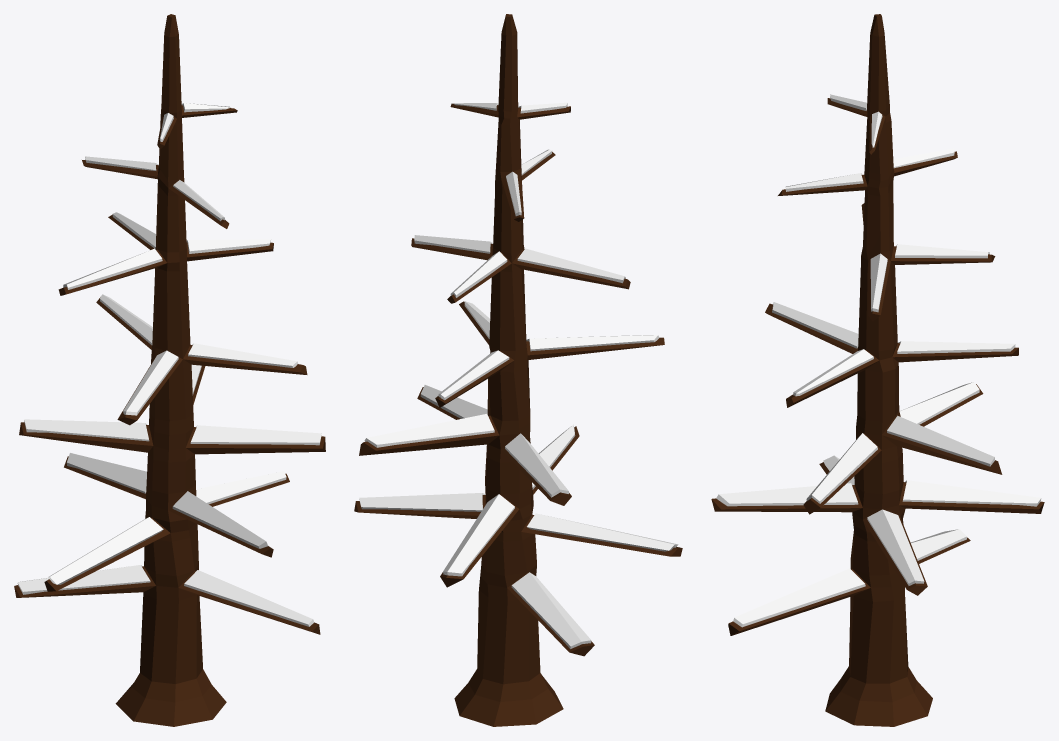
Rendered from tronco_nieve_1.fbx.
3 views of the same model, side by side, from view 1: azimuth 30°, elevation 25°; view 2: azimuth 150°, elevation 25°; view 3: azimuth 270°, elevation 25° (orthographic).
Parts seen in each view (by area): view 1: troncoNieve1:Mesh; view 2: troncoNieve1:Mesh; view 3: troncoNieve1:Mesh.
Boxes of the visible parts, x1=… form: troncoNieve1:Mesh: x1=14, y1=14, x2=325, y2=726; troncoNieve1:Mesh: x1=354, y1=14, x2=682, y2=726; troncoNieve1:Mesh: x1=711, y1=14, x2=1044, y2=726.
Size of the model in its own units: 62.11 by 145 by 63.36.
1 material, 1 textured.
